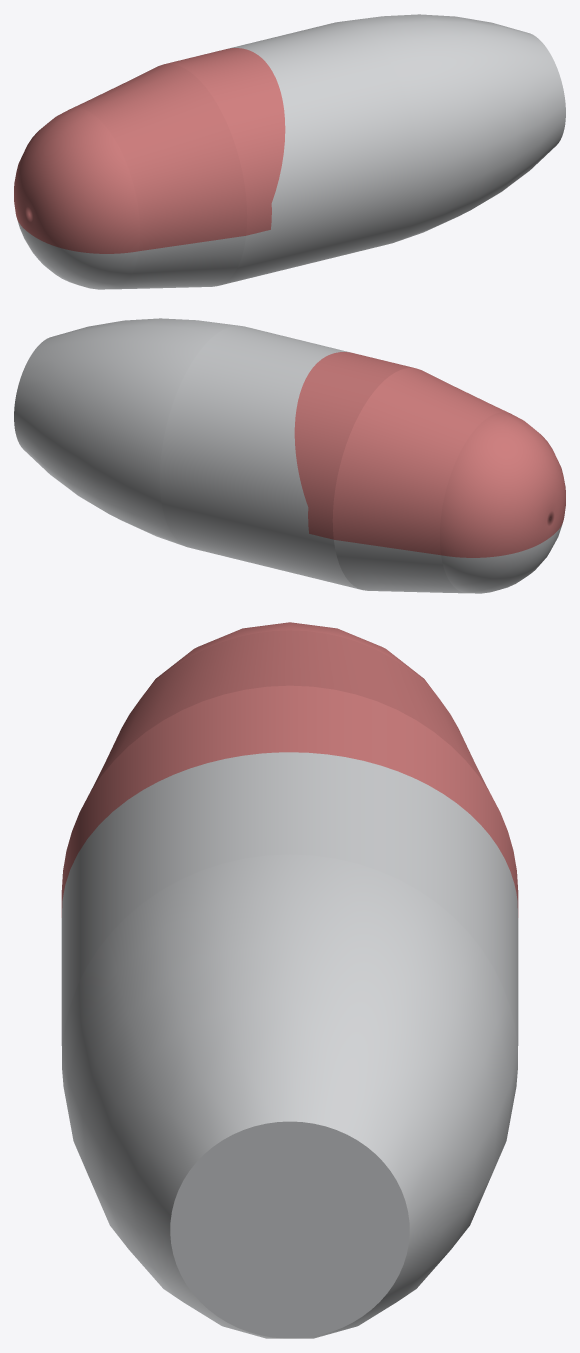
File: step_02.glb
3 views of the same model, one above another, from view 1: azimuth 30°, elevation 25°; view 2: azimuth 150°, elevation 25°; view 3: azimuth 270°, elevation 25° (orthographic). The views are drawn at different scales.
Visible parts, largest first — view 1: part__fuselage, removed__fuselage; view 2: part__fuselage, removed__fuselage; view 3: part__fuselage, removed__fuselage.
Boxes of the visible parts, bbox=[...] form: part__fuselage: bbox=[17, 14, 565, 289]; removed__fuselage: bbox=[14, 48, 285, 253]; part__fuselage: bbox=[14, 318, 562, 593]; removed__fuselage: bbox=[294, 352, 565, 557]; part__fuselage: bbox=[61, 752, 518, 1338]; removed__fuselage: bbox=[61, 622, 518, 917].
Bounding box in the file's own units: 4103 × 1600 × 1600.
